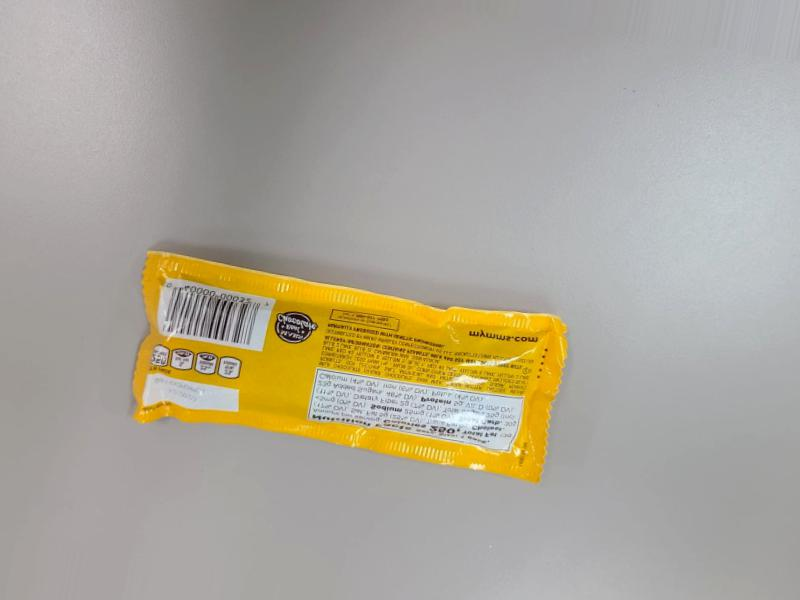m&m: (164, 248, 559, 476)
